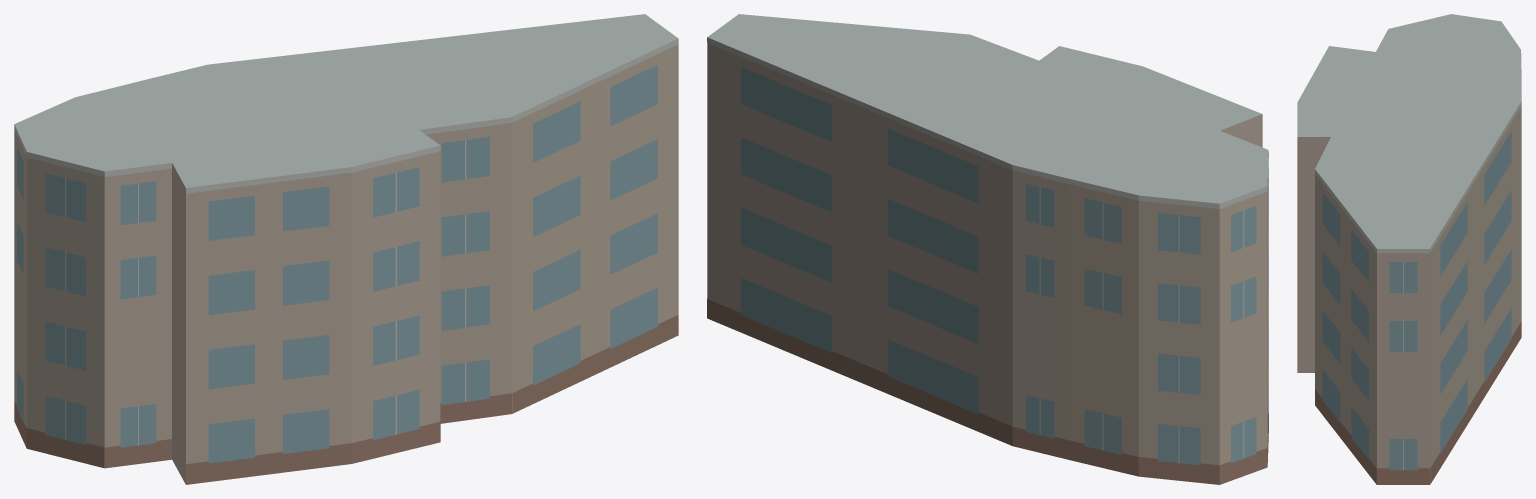
The model's file is survey-upis-32487130.glb.
3 renders of one model, left to right at view 1: azimuth 30°, elevation 25°; view 2: azimuth 150°, elevation 25°; view 3: azimuth 270°, elevation 25°, orthographic. The views are drawn at different scales.
Visible parts, largest first — view 1: survey-upis-32487130.tmp; view 2: survey-upis-32487130.tmp; view 3: survey-upis-32487130.tmp.
Part boxes in pixels (left/top/right/bottom): survey-upis-32487130.tmp: left=14, top=14, right=678, bottom=484; survey-upis-32487130.tmp: left=707, top=14, right=1268, bottom=484; survey-upis-32487130.tmp: left=1297, top=14, right=1521, bottom=484.
Bounding box in the file's own units: 27.32 × 12.8 × 11.05.
